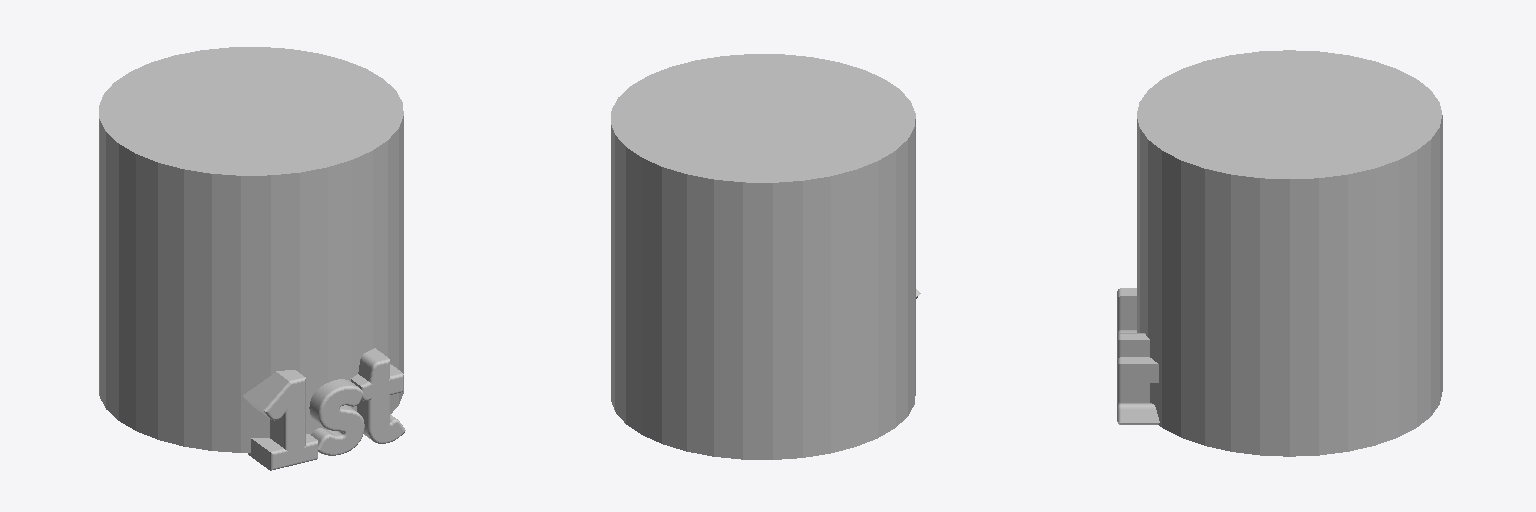
The model's file is first.obj.
The picture shows the model from 3 angles: view 1: azimuth 30°, elevation 25°; view 2: azimuth 150°, elevation 25°; view 3: azimuth 270°, elevation 25°; orthographic projection.
Visible parts, largest first — view 1: Cylinder, Text.002; view 2: Cylinder; view 3: Cylinder, Text.002.
Part boxes in pixels (x1,y1,x2,y2): Cylinder: (99, 47, 403, 452); Text.002: (243, 348, 405, 470); Cylinder: (611, 54, 915, 459); Cylinder: (1137, 50, 1442, 456); Text.002: (1117, 288, 1159, 424).
Size of the model in its own units: 2 by 2.04 by 2.13.